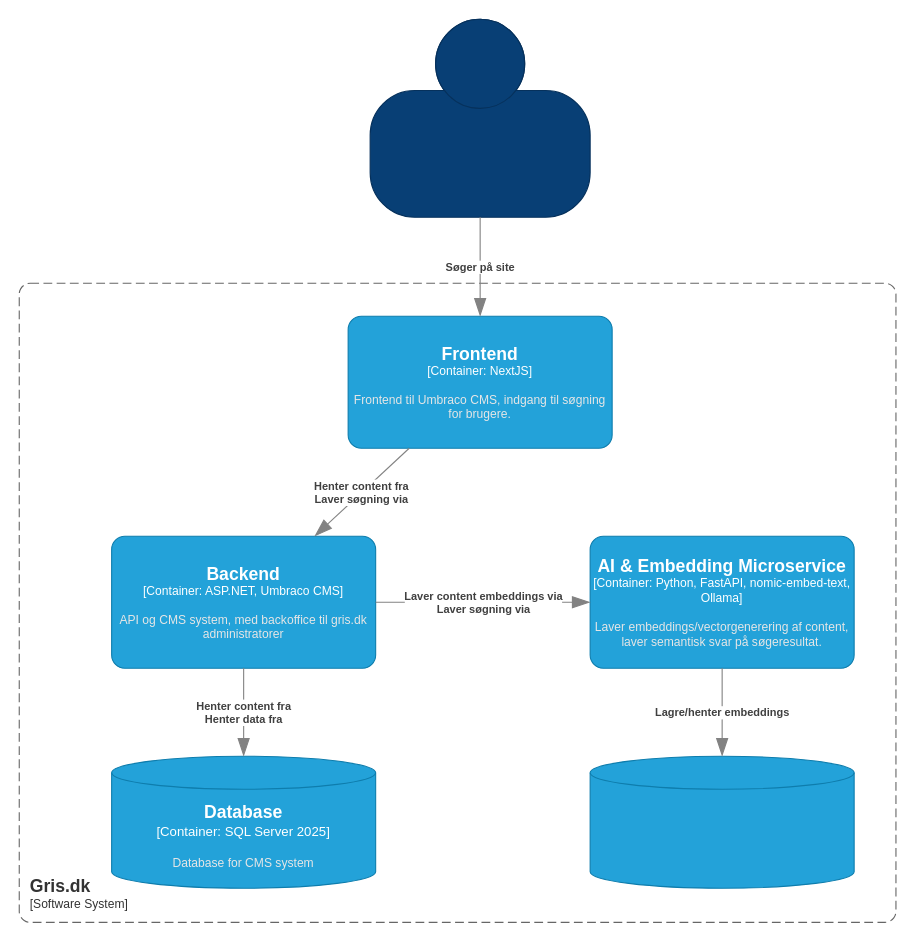
Some shapes in this 915 by 942 pixel diagram are drawn without their labels. Here are the shapes that lost their labels. From the top down, the centre of each, then its label:
At point 479,117: "Bruger [Person] Landmand, dyrlæge, transportør".
At point 721,821: "Vector Database [Container: (SQL Server 2025)] Database til embeddings".
